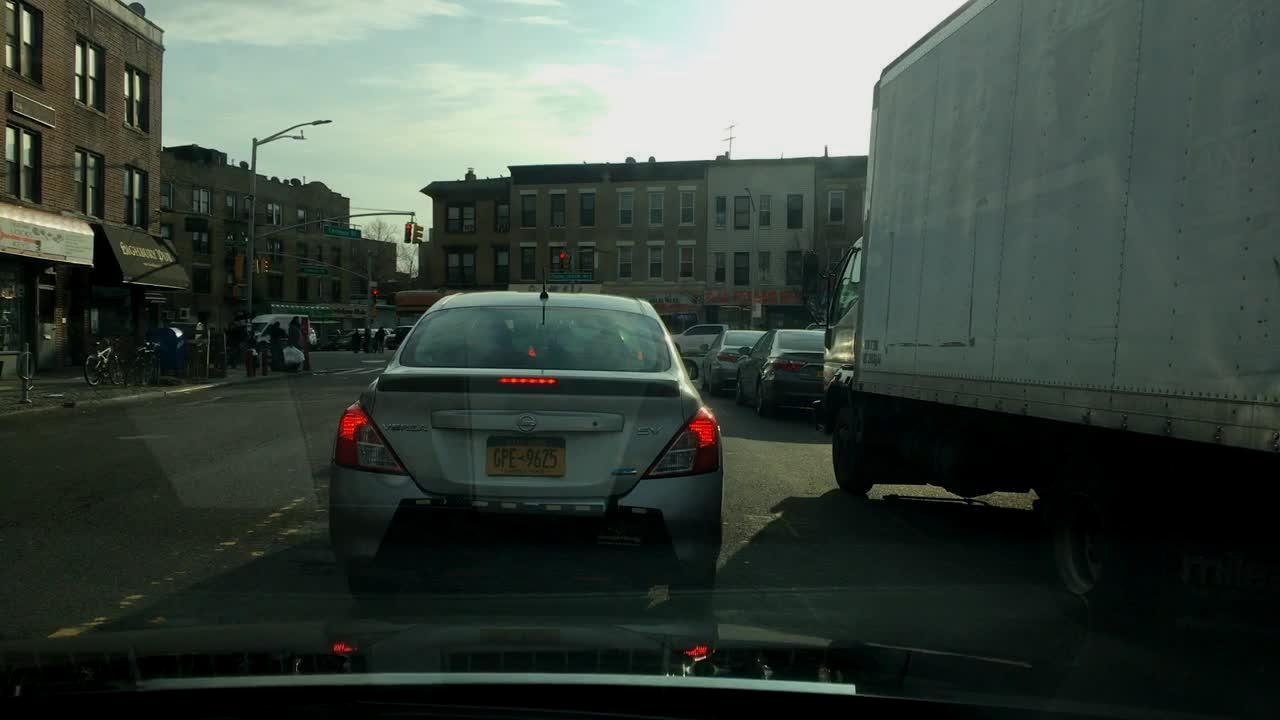Nissan: (507, 406, 548, 442)
